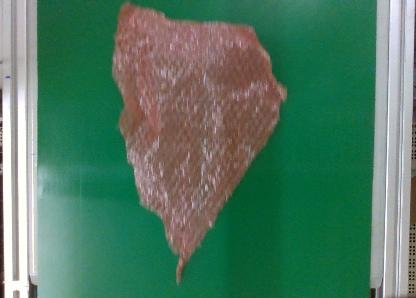Others: (108, 1, 288, 288)
